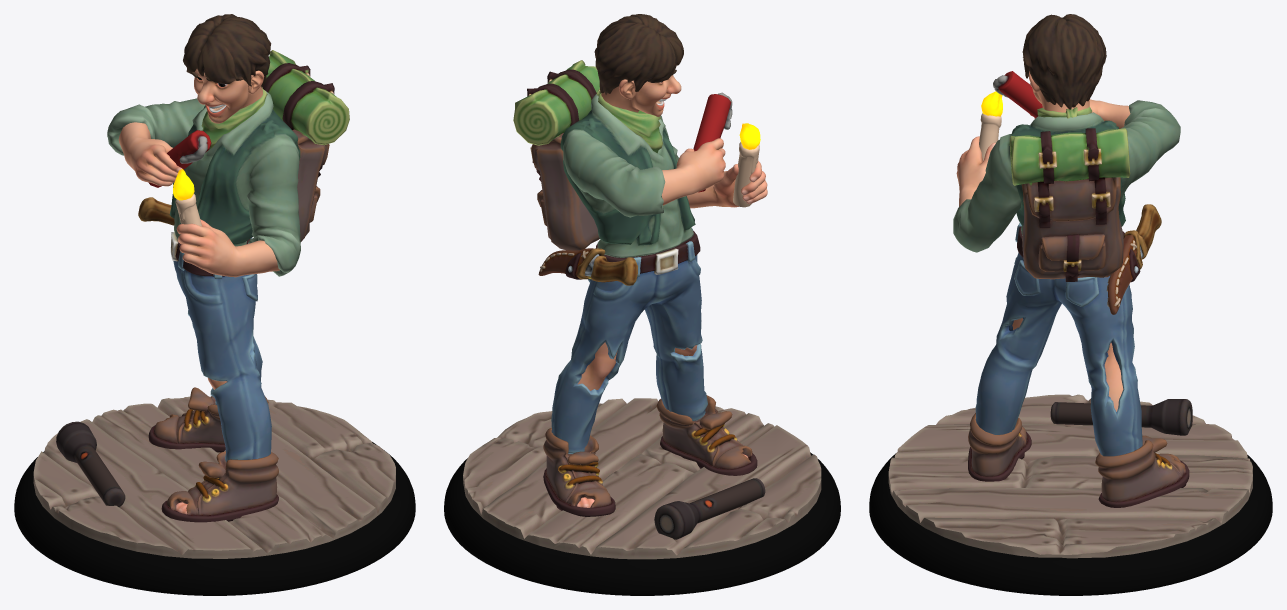
File: SM_BrandonJaspers.fbx
3 renders of one model, left to right at view 1: azimuth 30°, elevation 25°; view 2: azimuth 150°, elevation 25°; view 3: azimuth 270°, elevation 25°, orthographic.
Parts seen in each view (by area): view 1: hf_4411755_5481249; view 2: hf_4411755_5481249; view 3: hf_4411755_5481249.
Part boxes in pixels (bbox=[...]): hf_4411755_5481249: bbox=[14, 14, 415, 595]; hf_4411755_5481249: bbox=[444, 14, 840, 595]; hf_4411755_5481249: bbox=[869, 14, 1272, 595].
Bounding box in the file's own units: 135 × 183 × 135.
